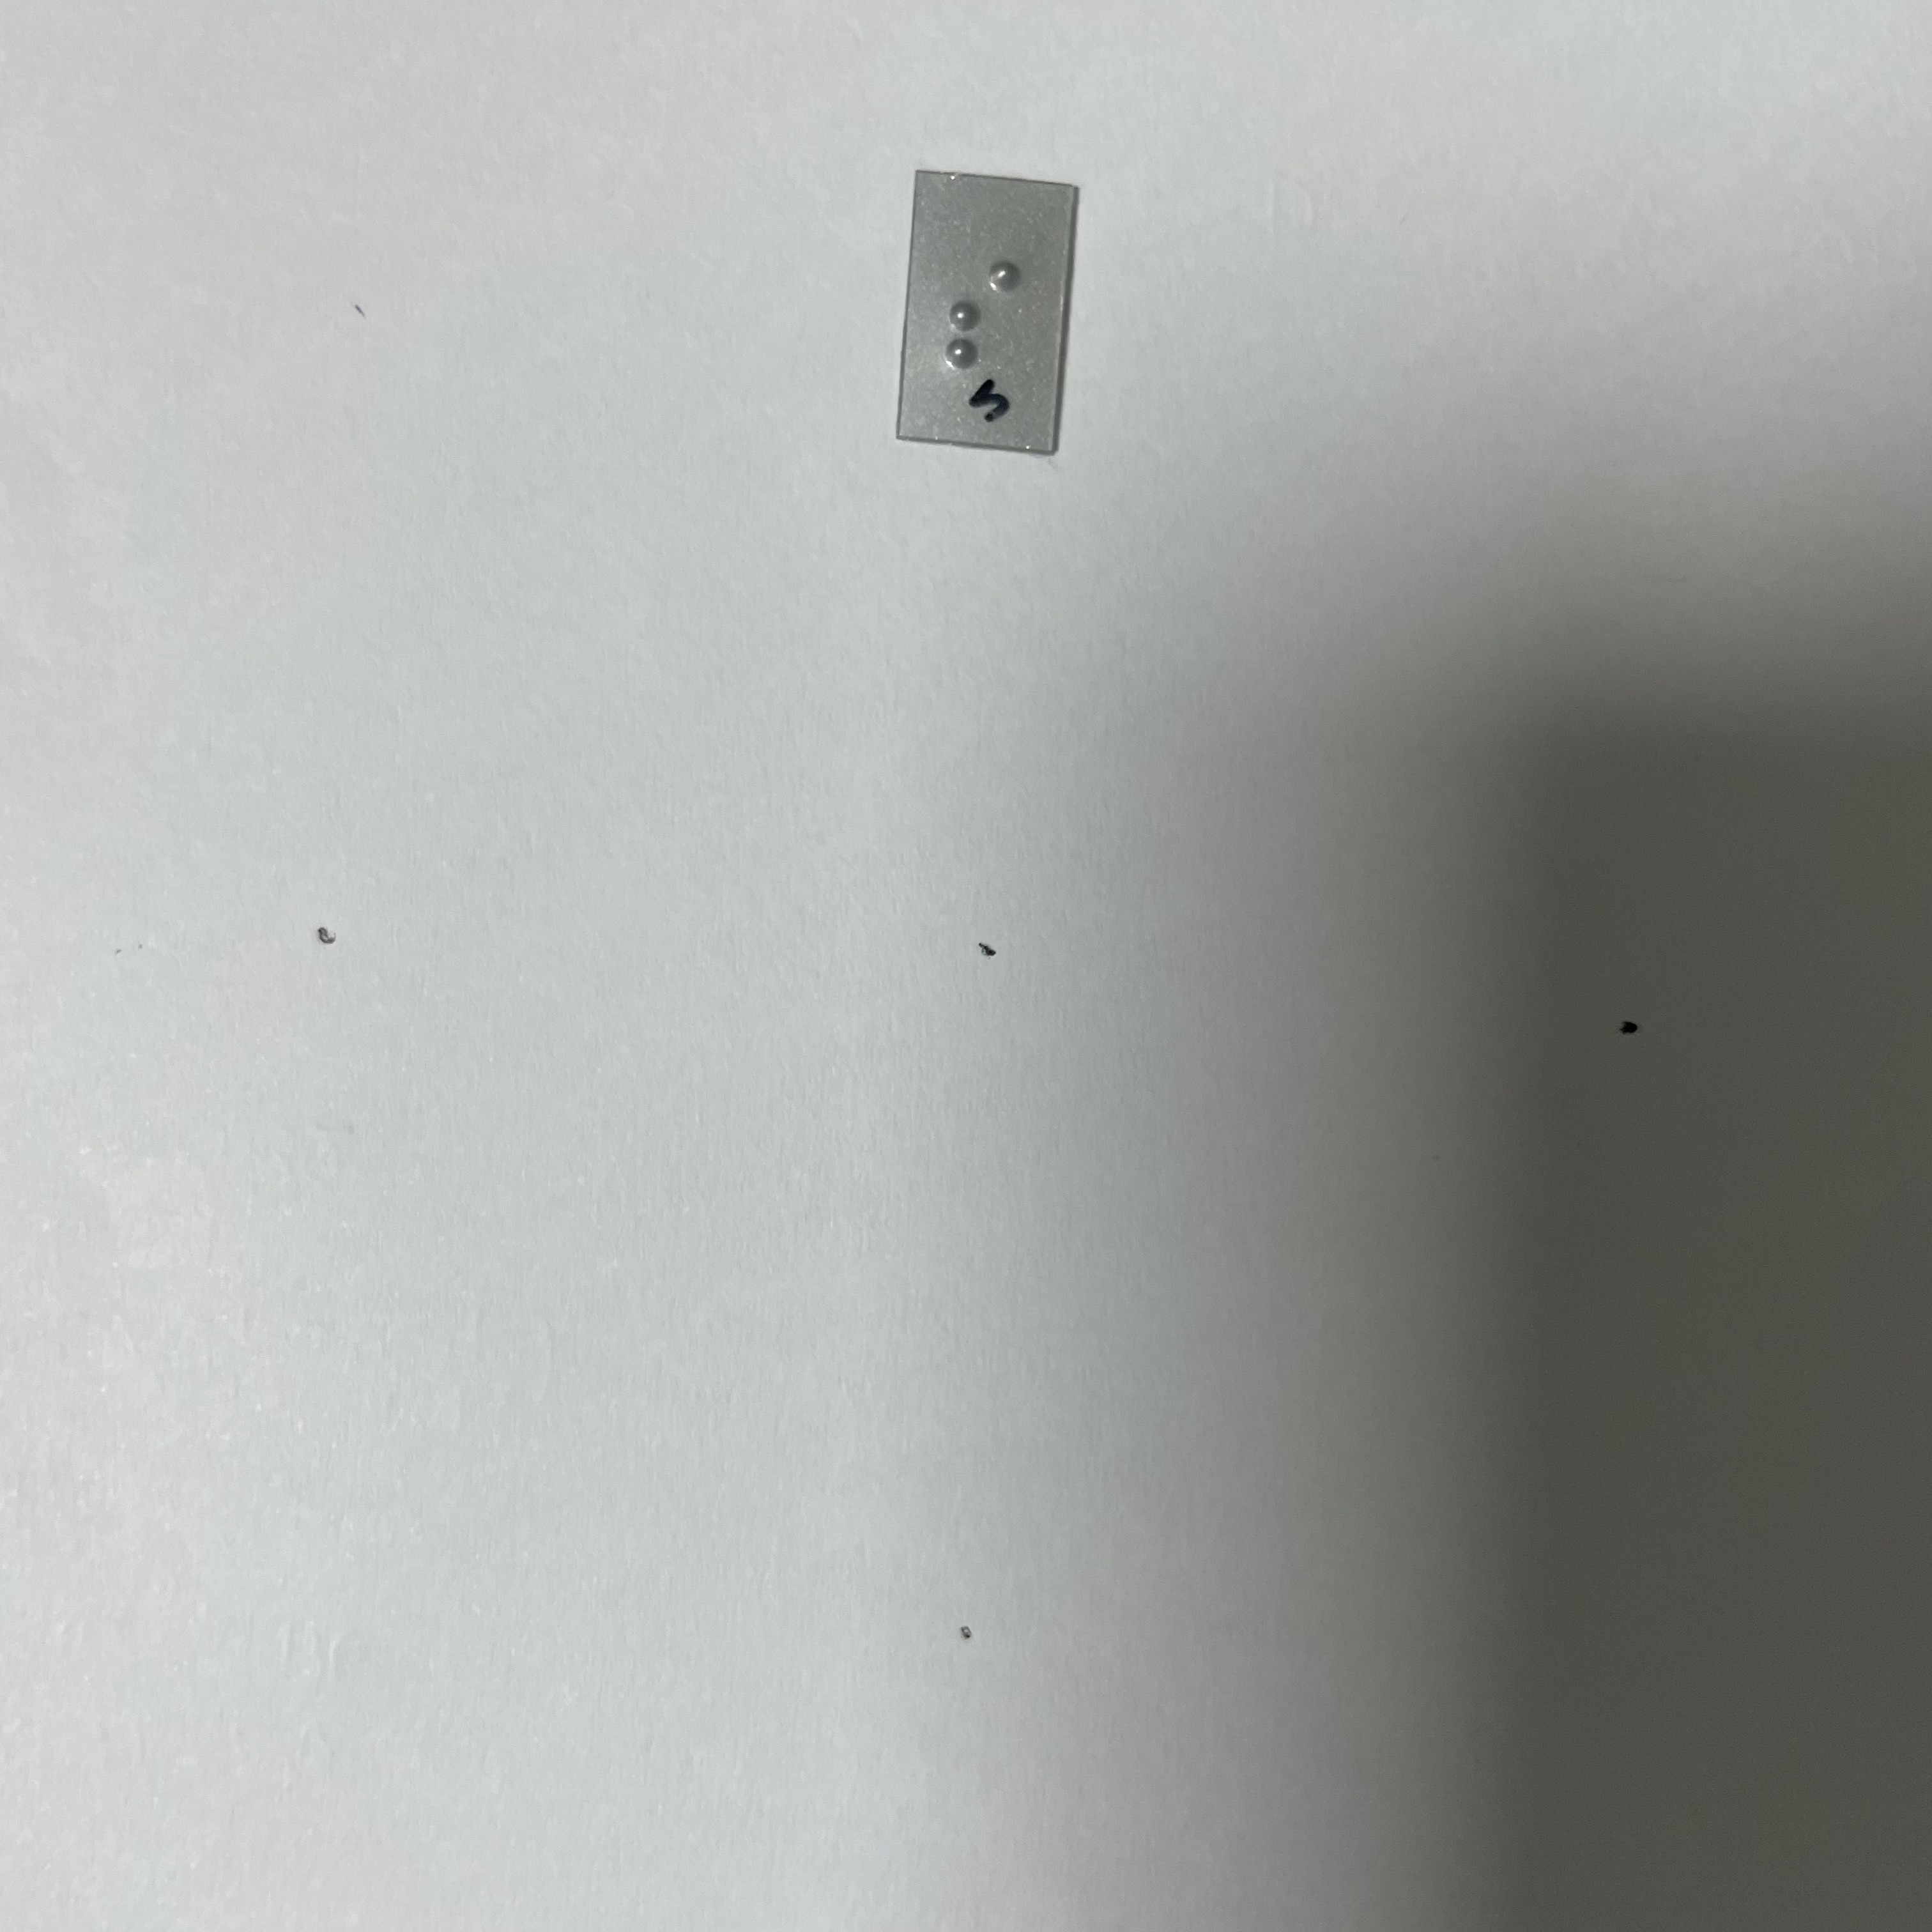s: (935, 247, 1032, 376)
